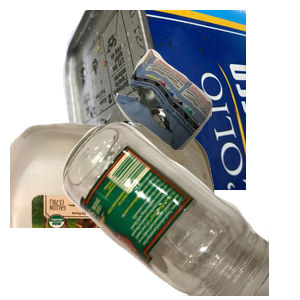glass: (60, 120, 300, 300)
metal: (60, 10, 300, 190)
plastic: (10, 120, 220, 300)
trash: (113, 46, 300, 189)
